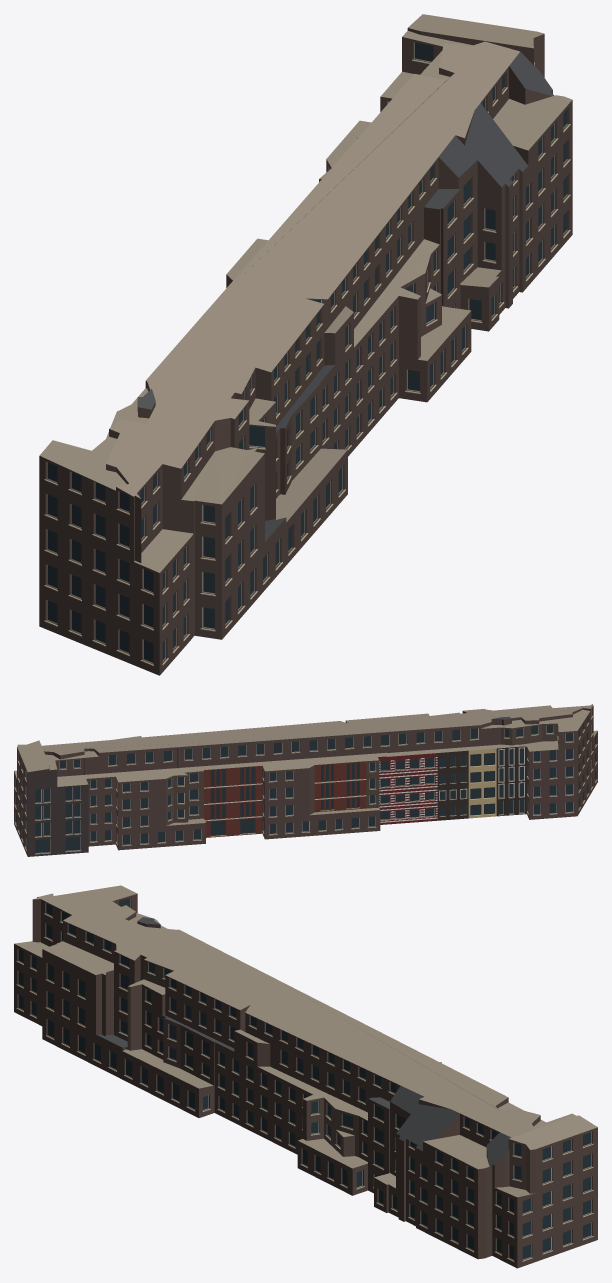
The model's file is recipe-large-narva-eiland-250155.glb.
The picture shows the model from 3 angles, top to bottom: view 1: azimuth 30°, elevation 25°; view 2: azimuth 150°, elevation 25°; view 3: azimuth 270°, elevation 25°; orthographic projection. The views are drawn at different scales.
Parts seen in each view (by area): view 1: narva-eiland-250155; view 2: narva-eiland-250155; view 3: narva-eiland-250155.
Boxes of the visible parts, x1,y1,x2,y2 form: narva-eiland-250155: (39, 14, 572, 675); narva-eiland-250155: (14, 704, 597, 856); narva-eiland-250155: (14, 885, 597, 1268).
Size of the model in its own units: 86.75 by 18.14 by 79.47.
